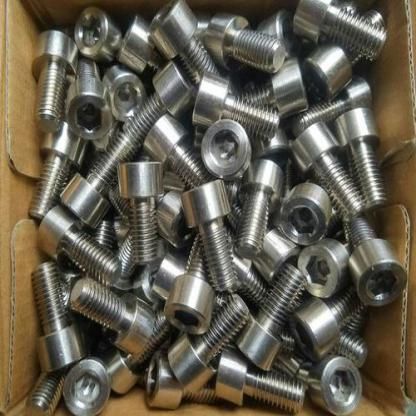FOD: (290, 123, 365, 227), (181, 178, 237, 294), (70, 279, 155, 354), (292, 0, 388, 63), (27, 28, 80, 133), (116, 158, 165, 268), (206, 11, 286, 74)
